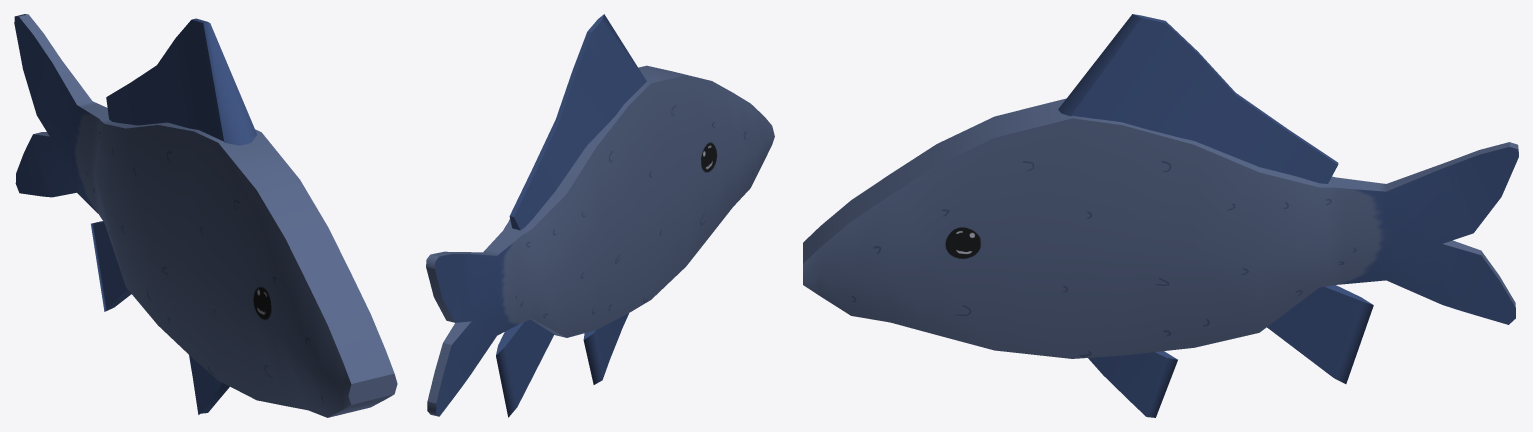
File: Vis2.fbx
3 renders of one model, left to right at view 1: azimuth 30°, elevation 25°; view 2: azimuth 150°, elevation 25°; view 3: azimuth 270°, elevation 25°, orthographic. The views are drawn at different scales.
Visible parts, largest first — view 1: BasicFishYellow_1; view 2: BasicFishYellow_1; view 3: BasicFishYellow_1.
Part boxes in pixels (<box>): BasicFishYellow_1: <box>14,14,397,417</box>; BasicFishYellow_1: <box>426,14,774,417</box>; BasicFishYellow_1: <box>803,14,1518,417</box>.
Bounding box in the file's own units: 0.1507 × 0.8775 × 1.41.
